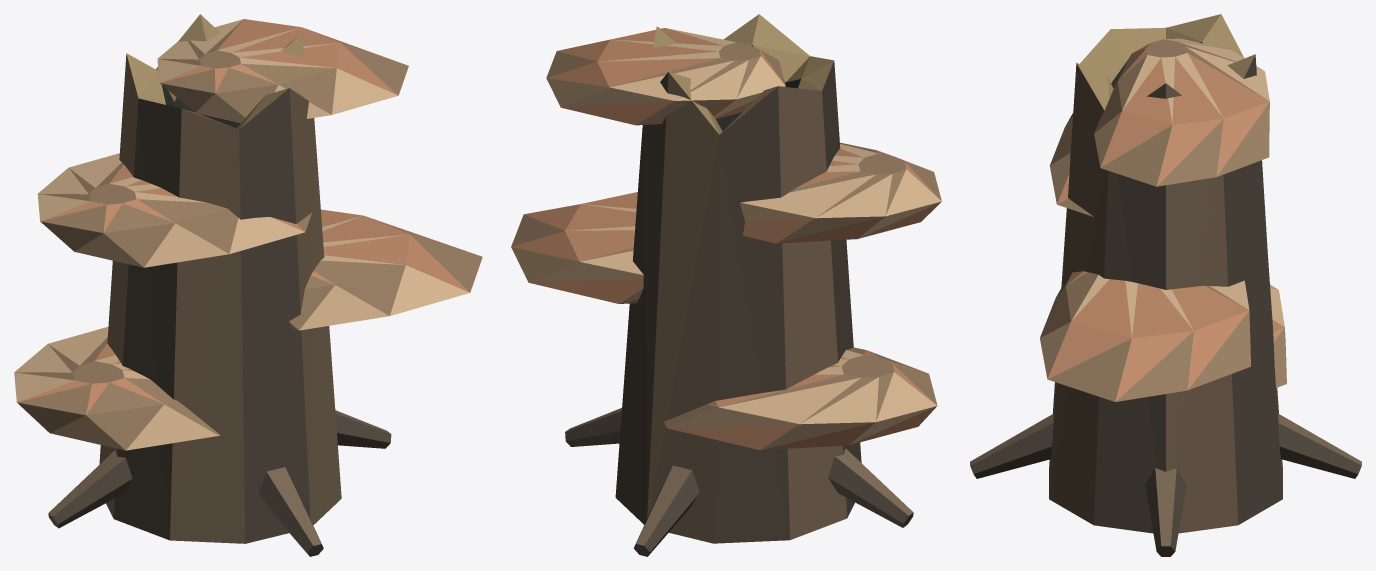
File: AE_Mushroom_ShelfColony.fbx
The picture shows the model from 3 angles, left to right: view 1: azimuth 30°, elevation 25°; view 2: azimuth 150°, elevation 25°; view 3: azimuth 270°, elevation 25°; orthographic projection.
Visible parts, largest first — view 1: AE_Mushroom_ShelfColony; view 2: AE_Mushroom_ShelfColony; view 3: AE_Mushroom_ShelfColony.
Boxes of the visible parts, x1=… form: AE_Mushroom_ShelfColony: x1=14, y1=14, x2=482, y2=556; AE_Mushroom_ShelfColony: x1=511, y1=14, x2=941, y2=556; AE_Mushroom_ShelfColony: x1=970, y1=14, x2=1361, y2=556.
Size of the model in its own units: 1.23 by 1.19 by 0.9566.
